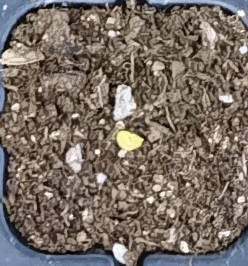chilli seed: (115, 129, 144, 151)
